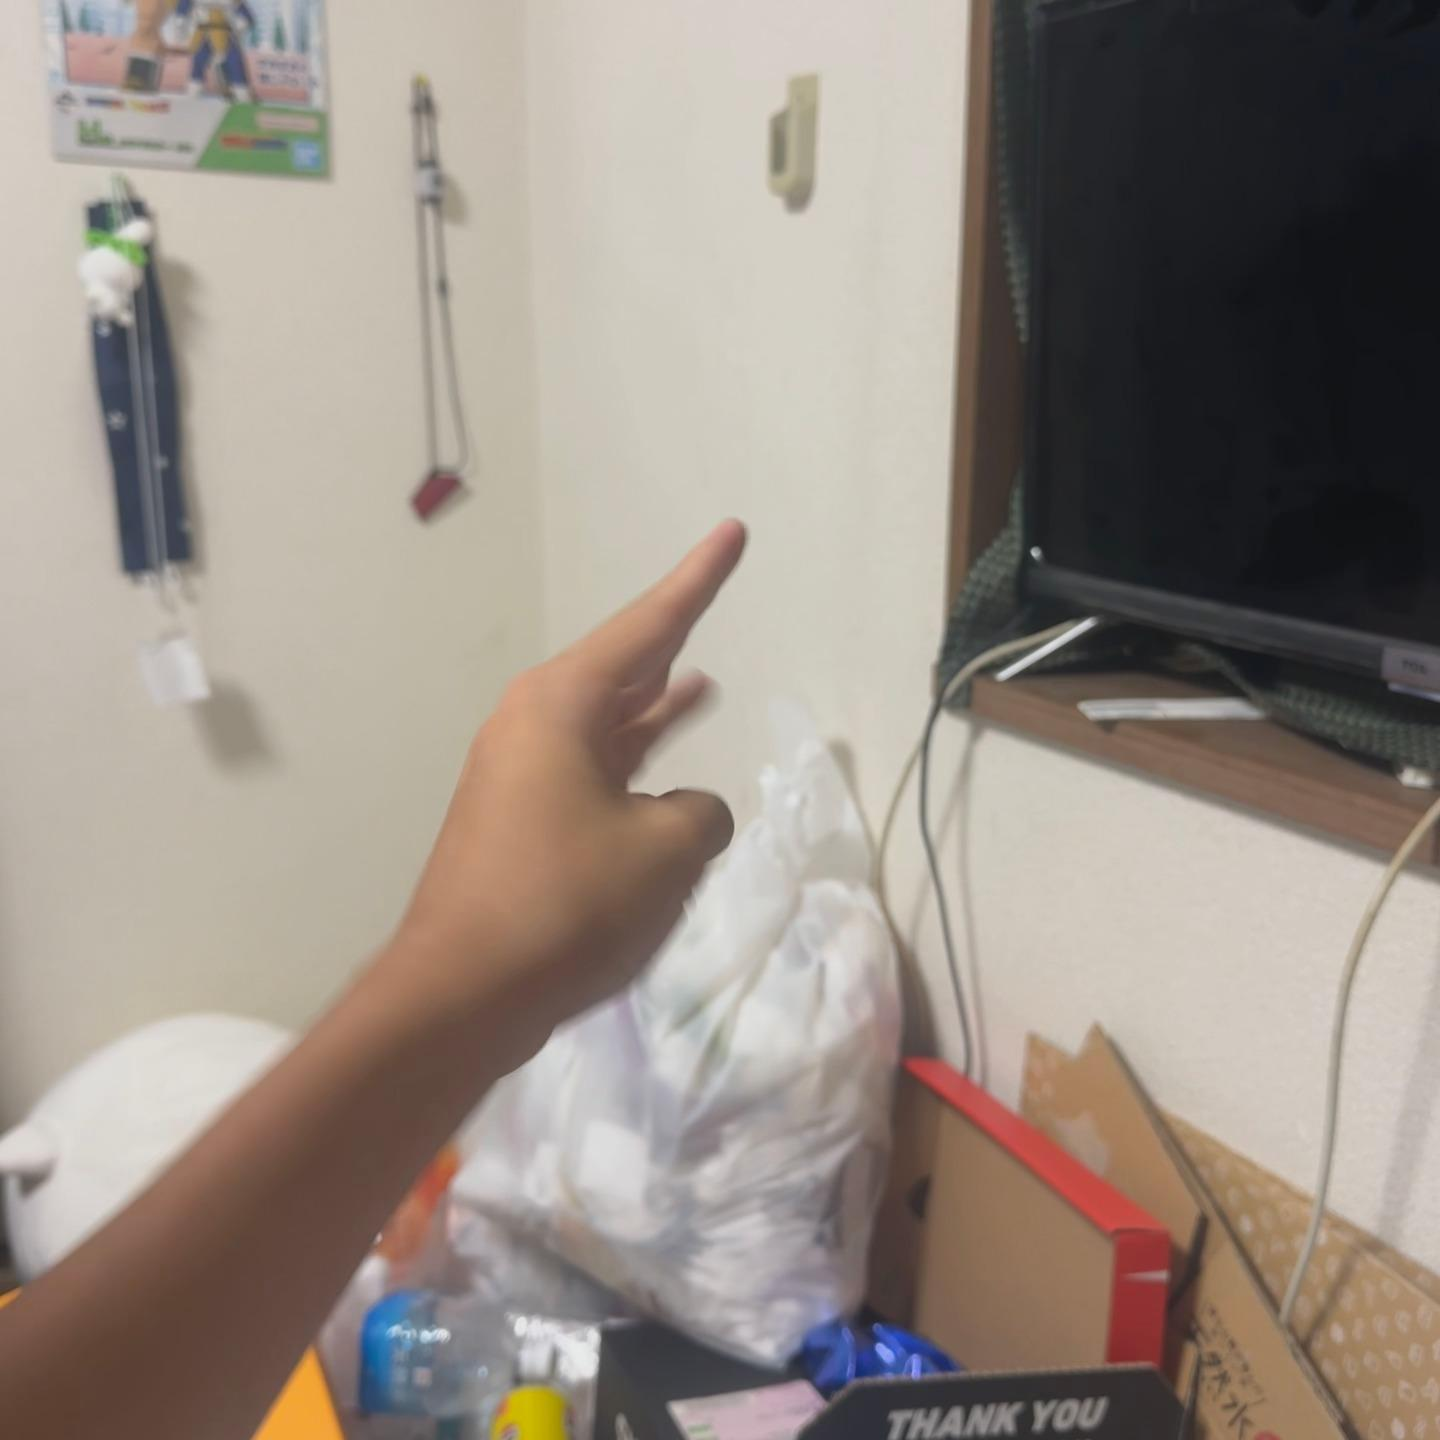without_gloves: (380, 440, 881, 1133)
